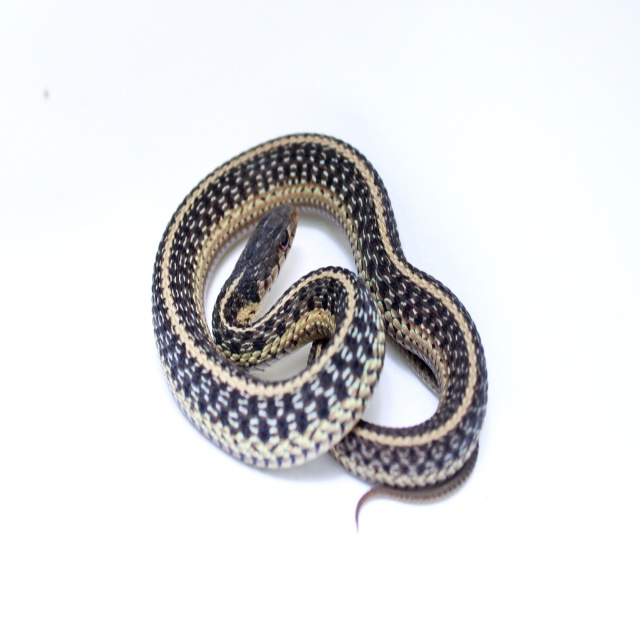Snake: (158, 137, 500, 520)
